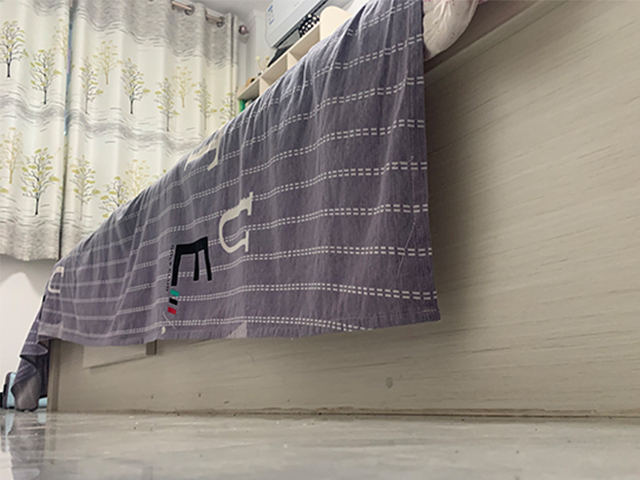bed: (11, 1, 640, 415)
